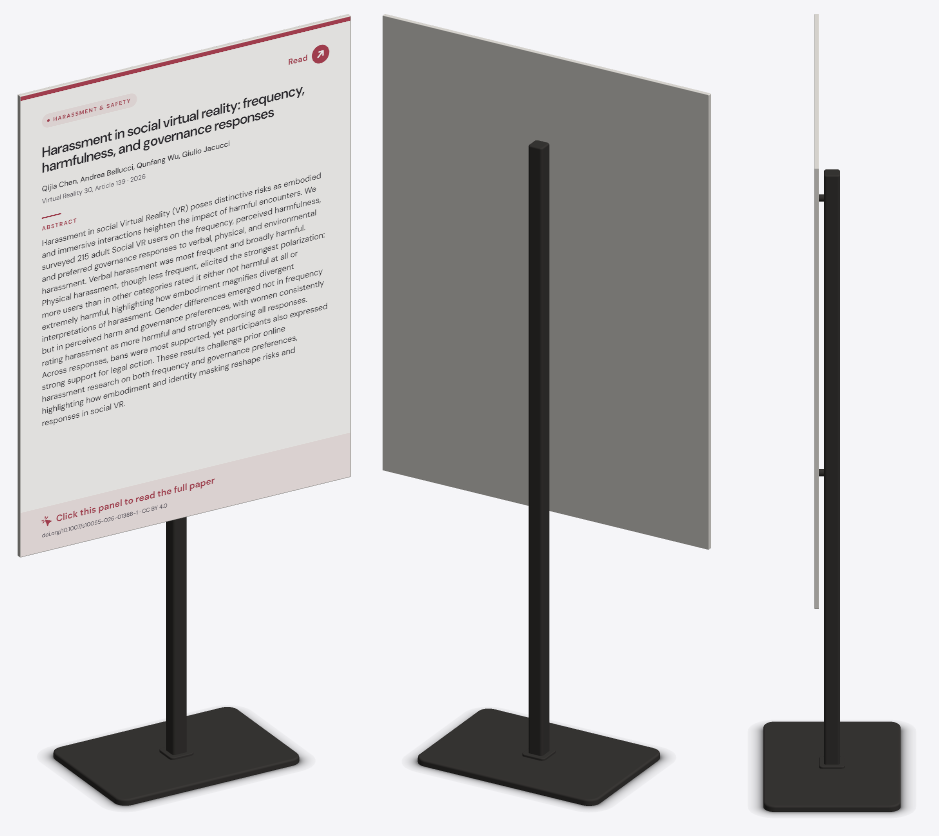
Rendered from chen-2026-stand.glb.
3 views of the same model, side by side, from view 1: azimuth 30°, elevation 25°; view 2: azimuth 150°, elevation 25°; view 3: azimuth 270°, elevation 25° (orthographic). The views are drawn at different scales.
Visible parts, largest first — view 1: board, stand; view 2: board, stand; view 3: stand, board.
Part boxes in pixels (box(x1,y1,x2,y2)): board: box(17, 14, 350, 557); stand: box(46, 517, 306, 808); board: box(382, 14, 710, 549); stand: box(410, 140, 666, 808); stand: box(756, 169, 907, 814); board: box(814, 14, 818, 608).
Bounding box in the file's own units: 0.904 × 1.85 × 0.46.
4 materials, 2 textured.
